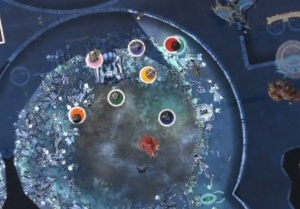blue: (152, 103, 178, 129)
green: (101, 83, 128, 109)
orange: (63, 101, 89, 126)
pink: (78, 46, 104, 72)
red: (162, 33, 182, 54)
violet: (124, 34, 146, 57)
yellow: (134, 61, 159, 85)
